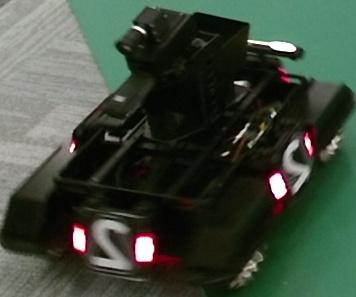armor_2: (72, 226, 155, 263), (268, 132, 313, 200)
front_2: (86, 214, 134, 274)
left_2: (283, 136, 313, 195)
